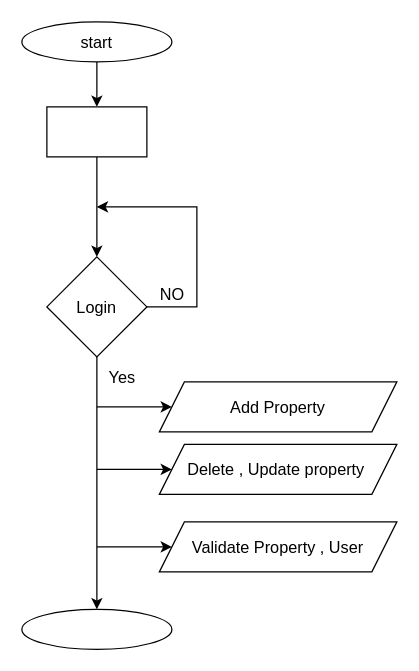
Some shapes in this 419 by 671 pixel diagram are drawn without their labels. Each missing label, with the centre of its shape:
"Admin login portal" goes at pixel 96 131.
"stop" goes at pixel 96 628.
